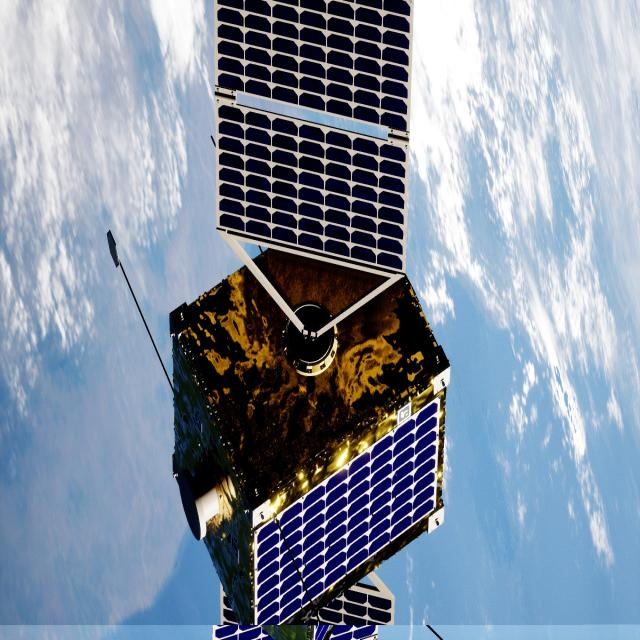satellite: (168, 0, 451, 640)
